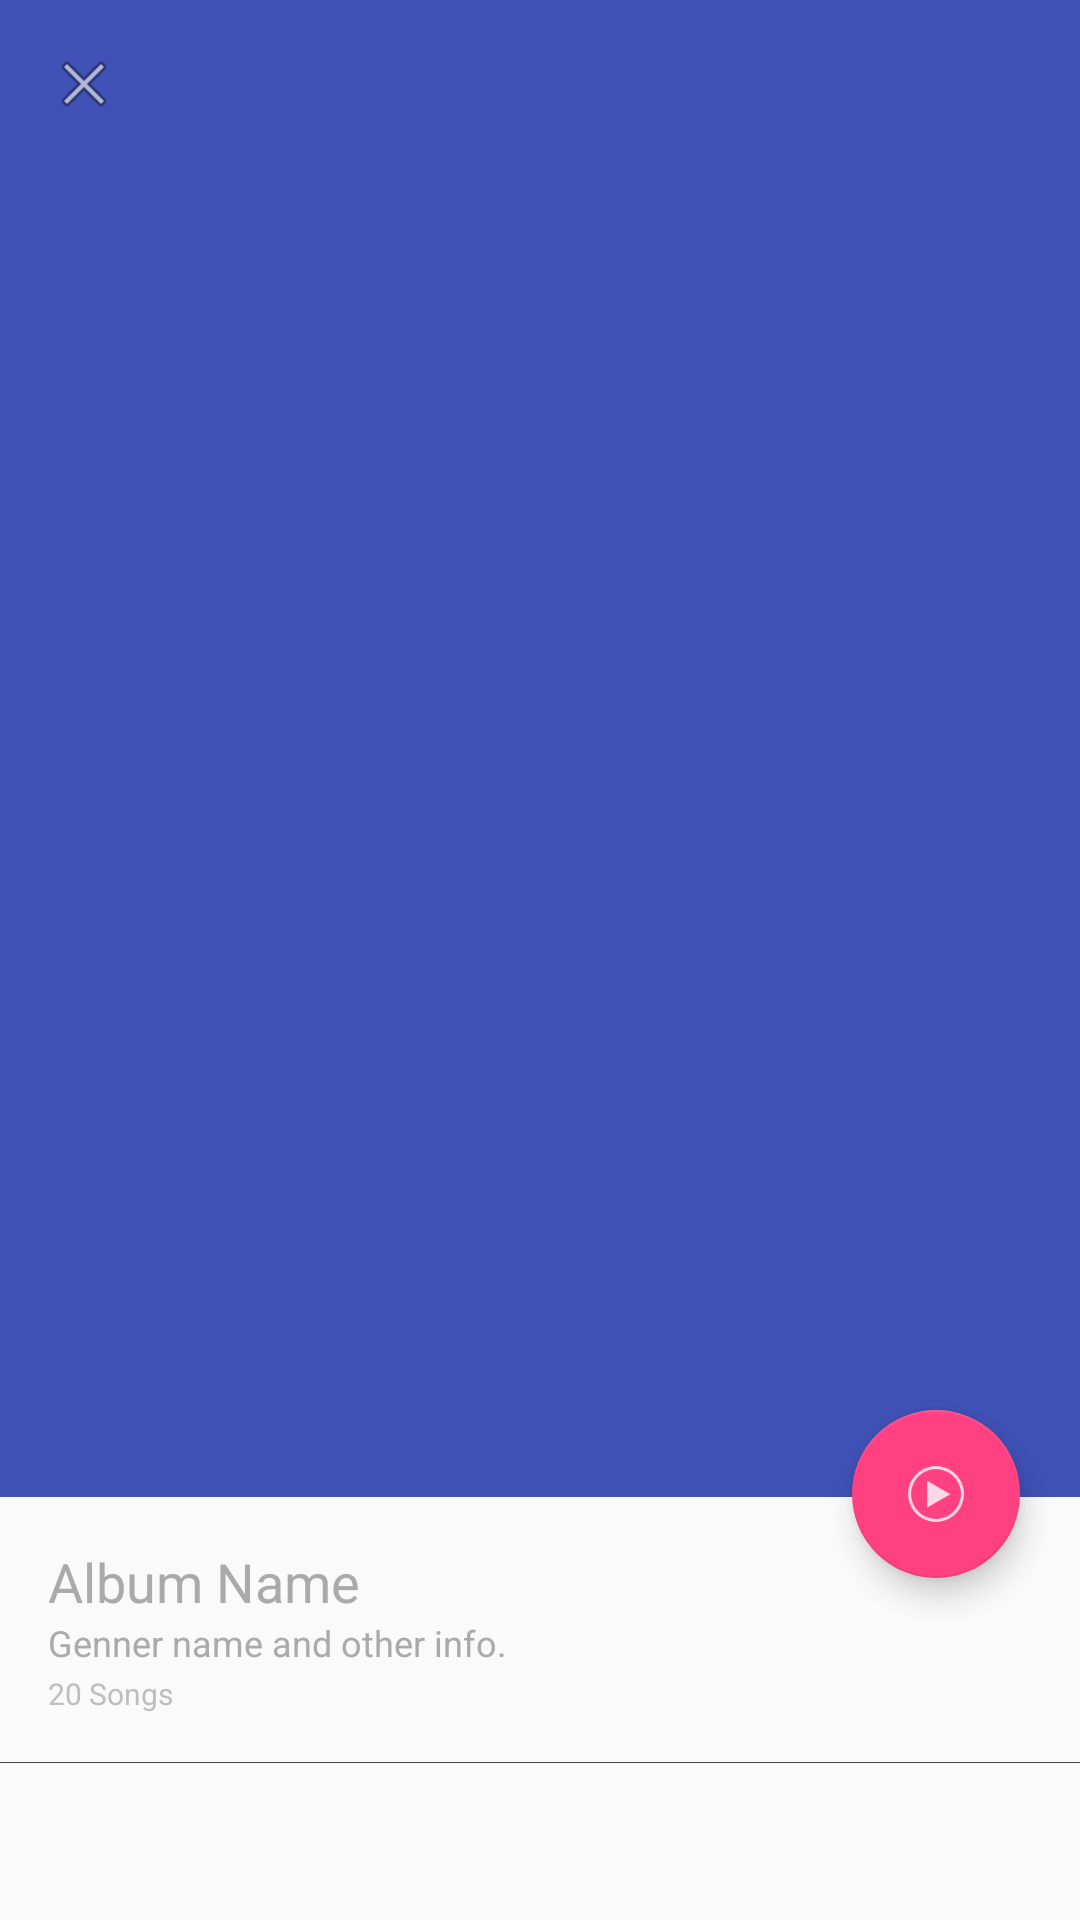

Screen size 1080 x 1920. Icon name, then its center in pixels as [x,y]:
close clear cancel: [84,84]
play circle: [936,1494]
